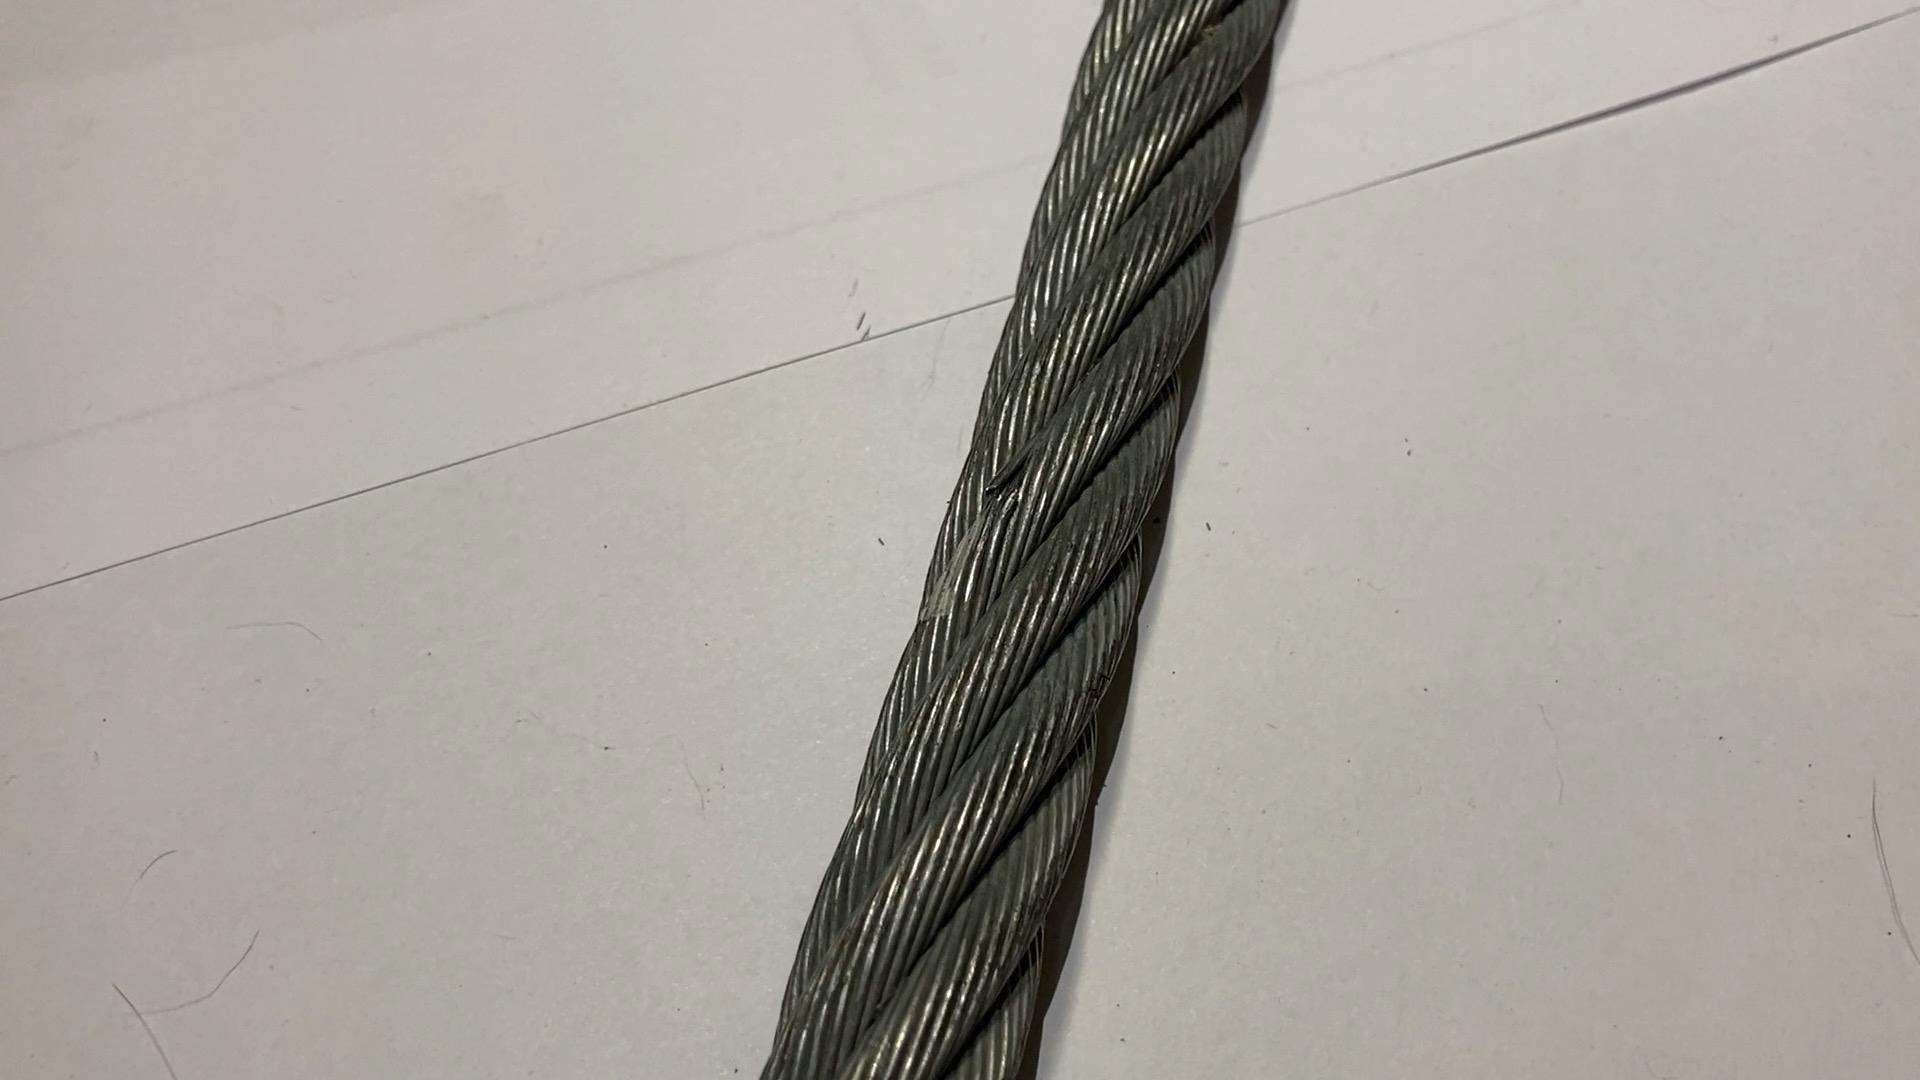break: (975, 458, 1029, 508)
